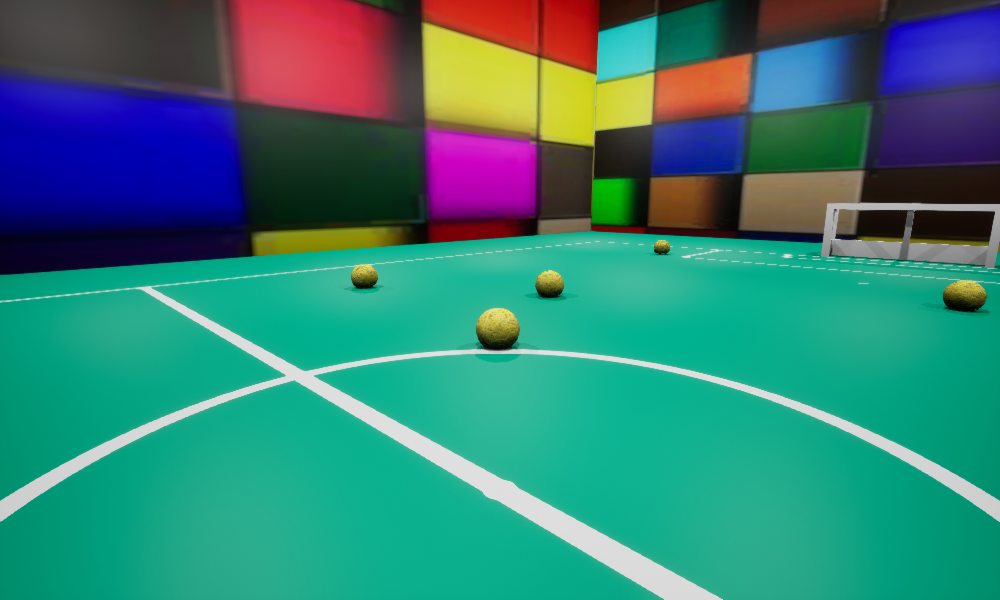b: (476, 308, 519, 349), (943, 280, 986, 310), (535, 270, 563, 297), (351, 264, 377, 288), (654, 240, 669, 253)
g: (821, 203, 999, 267)
